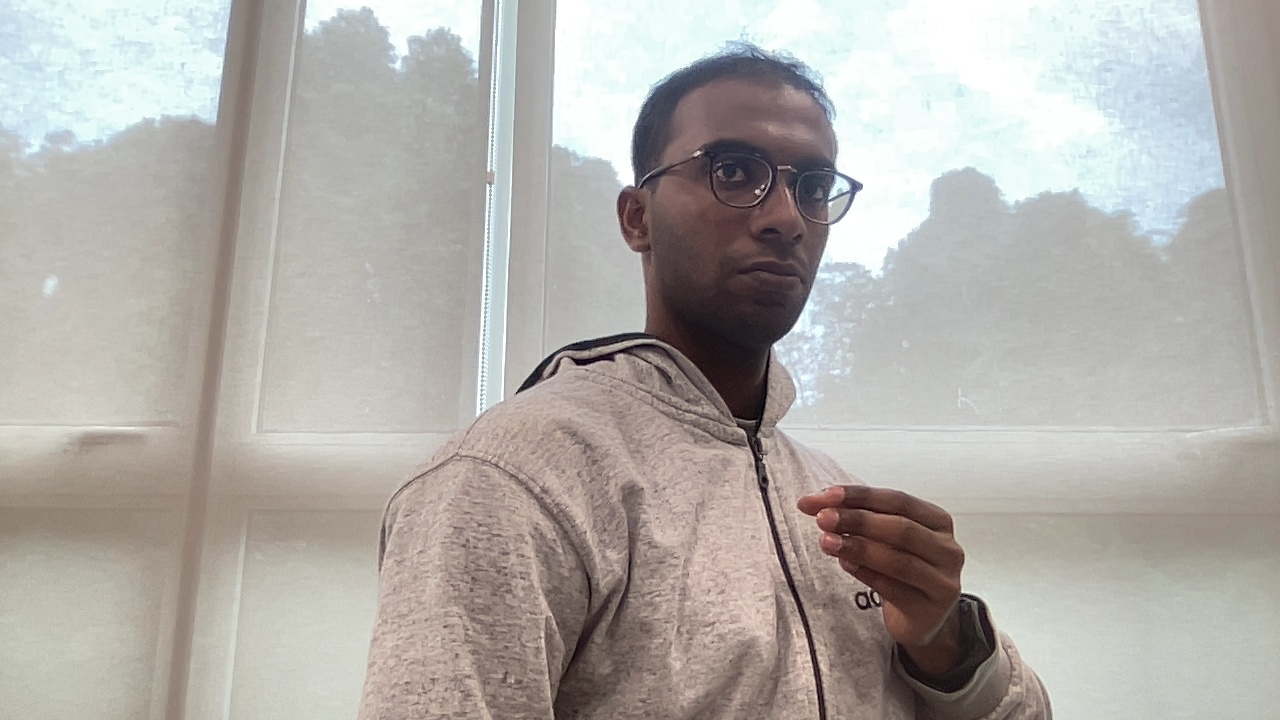drink: (791, 475, 979, 640)
